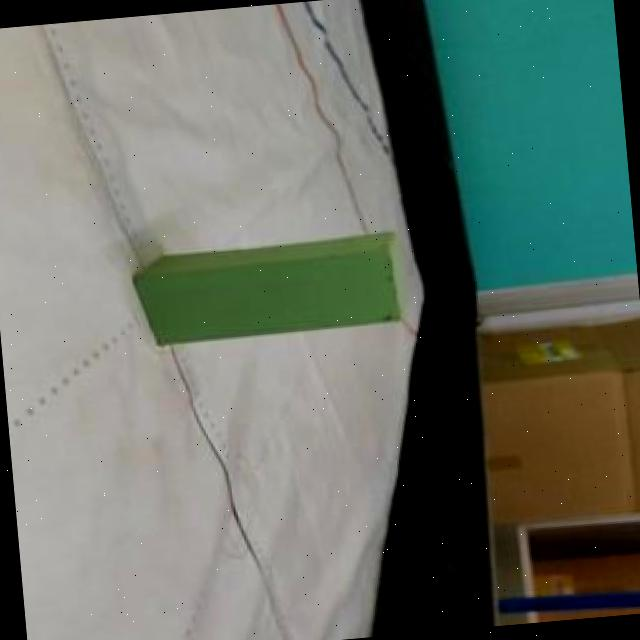greenbox: (129, 228, 412, 346)
